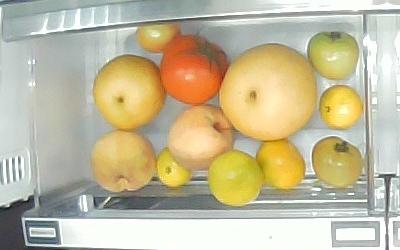peach: (166, 104, 233, 169), (91, 130, 157, 193)
pear: (220, 43, 317, 140), (93, 53, 166, 130)
tangerine: (208, 149, 263, 206), (256, 140, 306, 190), (257, 139, 305, 191), (319, 85, 364, 130), (156, 148, 192, 188)
tomato: (160, 34, 228, 106), (308, 31, 362, 81), (312, 136, 363, 188), (136, 21, 180, 53)
